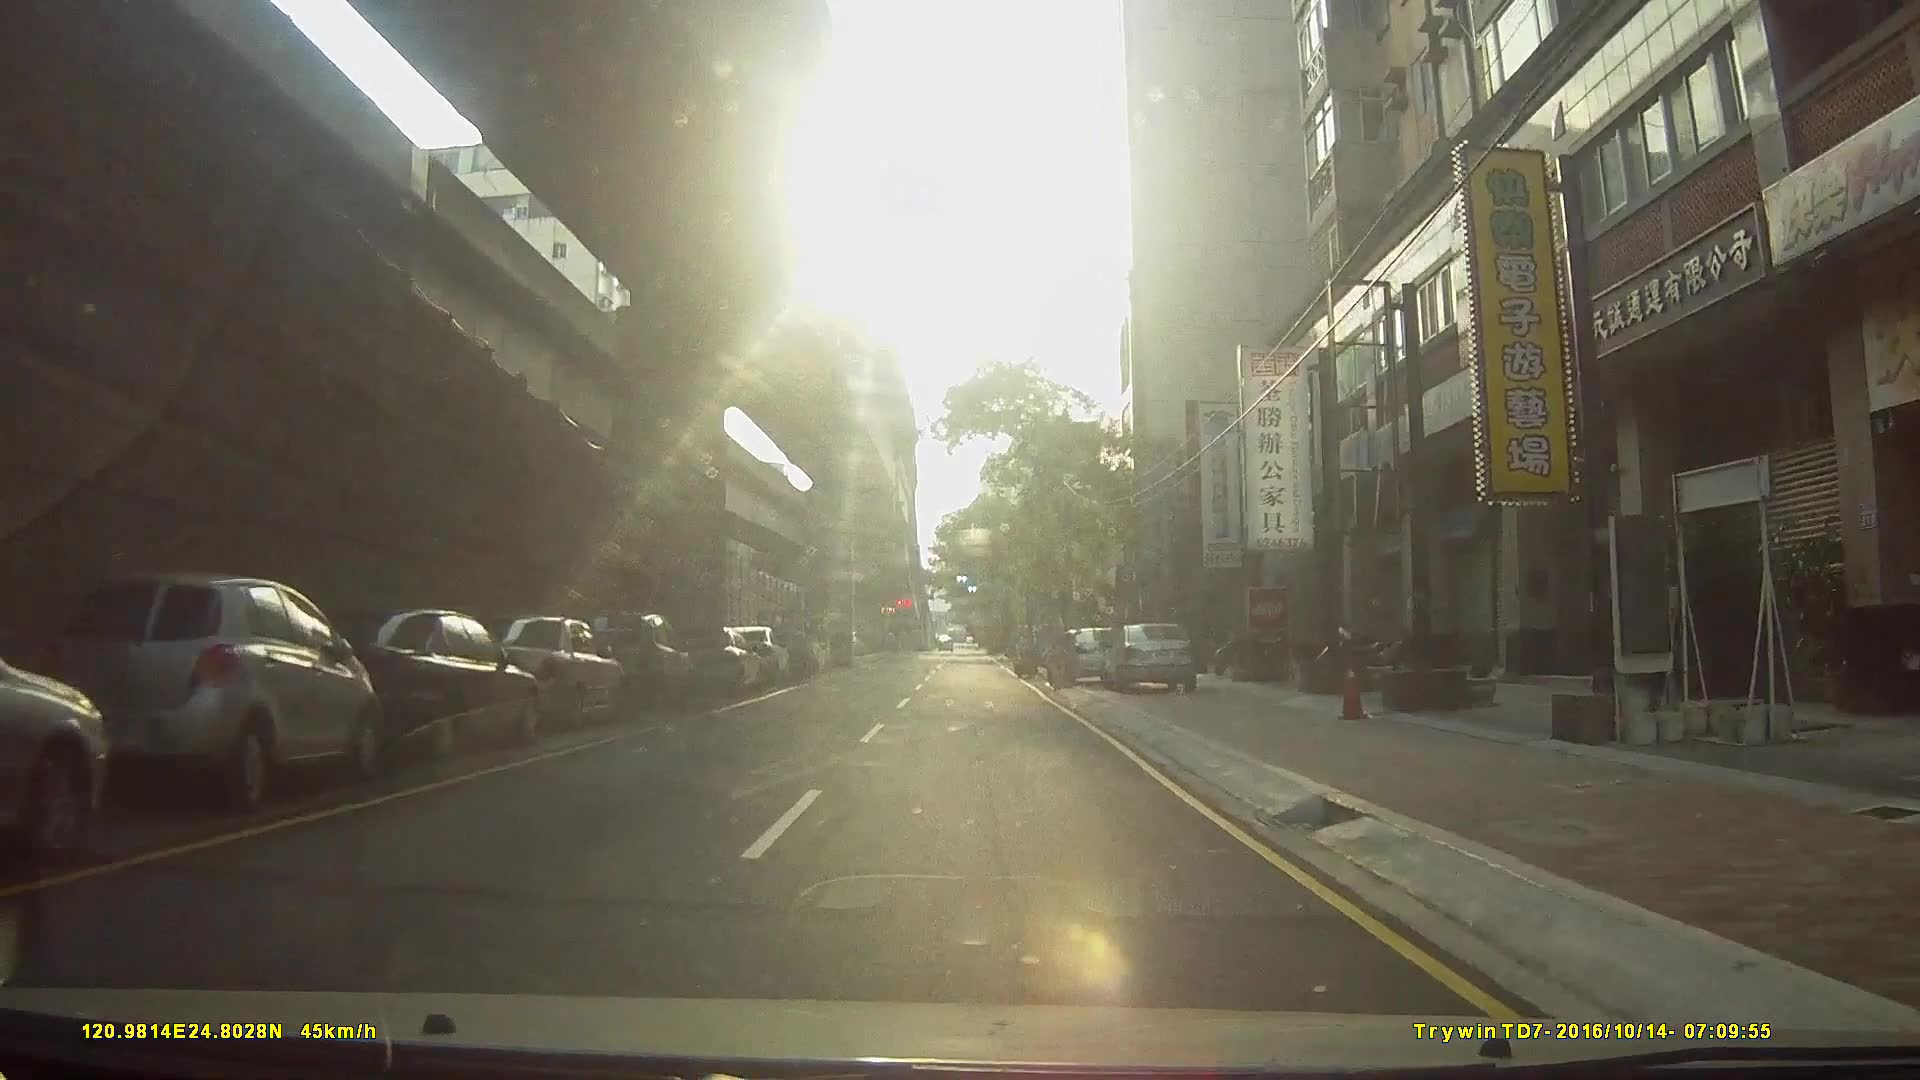rider: (1012, 622, 1040, 681)
vehicle: (18, 559, 396, 825), (309, 607, 528, 765), (465, 614, 620, 733), (572, 609, 693, 717), (1097, 622, 1200, 695), (1044, 628, 1126, 691), (754, 608, 810, 682)
